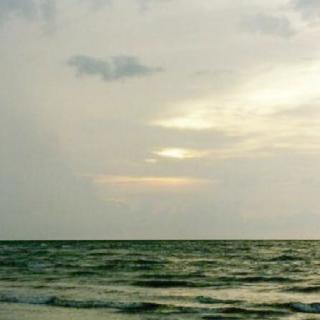Cirrostratus: (0, 0, 320, 226)
